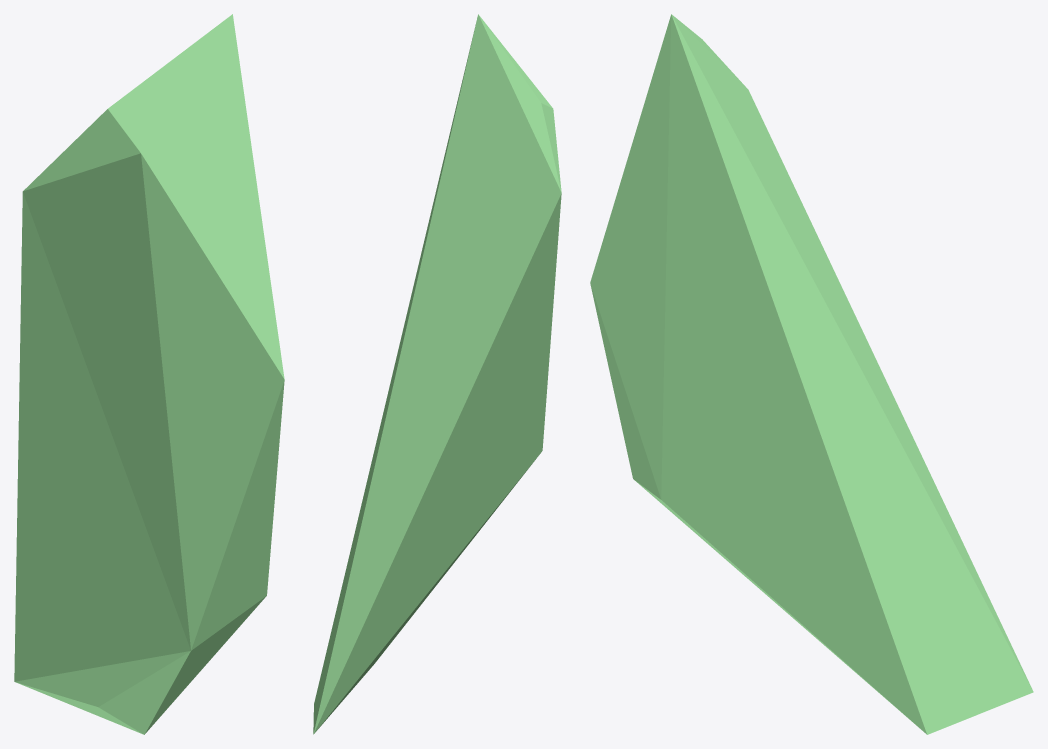
File: xarm7_with_gripper_LR4_R560_link6_respondable_coll_15.dae
The picture shows the model from 3 angles, left to right: view 1: azimuth 30°, elevation 25°; view 2: azimuth 150°, elevation 25°; view 3: azimuth 270°, elevation 25°; orthographic projection. The views are drawn at different scales.
Parts seen in each view (by area): view 1: Node_000001B88F9E3680; view 2: Node_000001B88F9E3680; view 3: Node_000001B88F9E3680.
Part boxes in pixels (bbox=[...]): Node_000001B88F9E3680: bbox=[14, 14, 284, 734]; Node_000001B88F9E3680: bbox=[313, 14, 561, 734]; Node_000001B88F9E3680: bbox=[590, 14, 1033, 734].
Bounding box in the file's own units: 0.0156 × 0.0549 × 0.0318.
